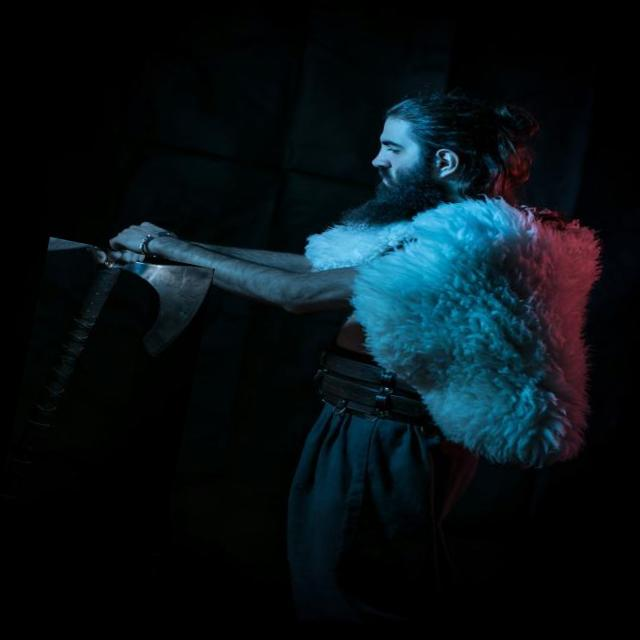Axe: (0, 263, 213, 523)
